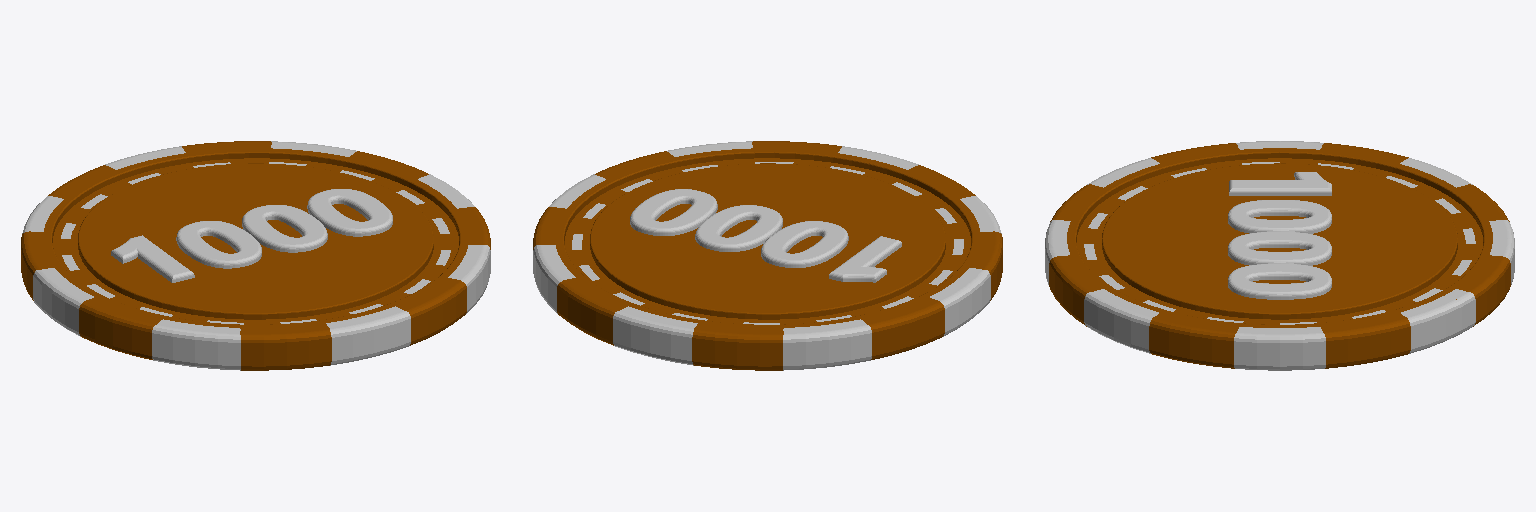
File: poker_chip_1000.obj
3 views of the same model, side by side, from view 1: azimuth 30°, elevation 25°; view 2: azimuth 150°, elevation 25°; view 3: azimuth 270°, elevation 25° (orthographic).
Visible parts, largest first — view 1: obj1, obj2, obj3; view 2: obj1, obj2, obj3; view 3: obj1, obj2, obj3.
Part boxes in pixels (left/top/right/bottom): obj1: left=21, top=141, right=490, bottom=370; obj2: left=22, top=141, right=490, bottom=370; obj3: left=111, top=189, right=392, bottom=282; obj1: left=533, top=141, right=1002, bottom=370; obj2: left=533, top=141, right=1001, bottom=370; obj3: left=630, top=189, right=901, bottom=282; obj1: left=1049, top=143, right=1510, bottom=368; obj2: left=1045, top=141, right=1514, bottom=370; obj3: left=1228, top=172, right=1331, bottom=299.
Size of the model in its own units: 0.0802 by 0.0091 by 0.0802.